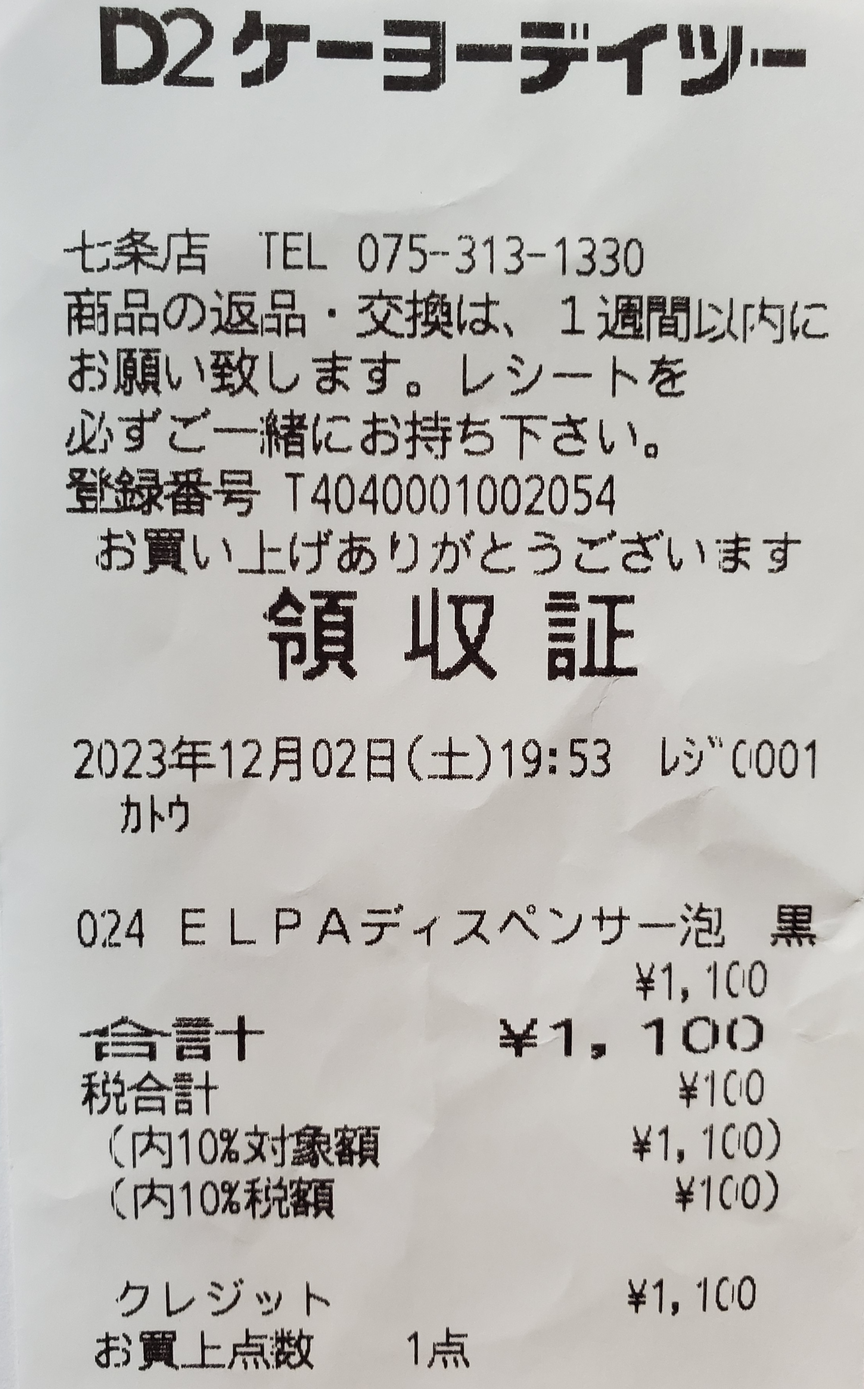Date: (42, 724, 406, 791)
Shopname: (63, 6, 834, 123)
Telnum: (353, 213, 652, 284)
Totalpay: (61, 990, 801, 1068)
